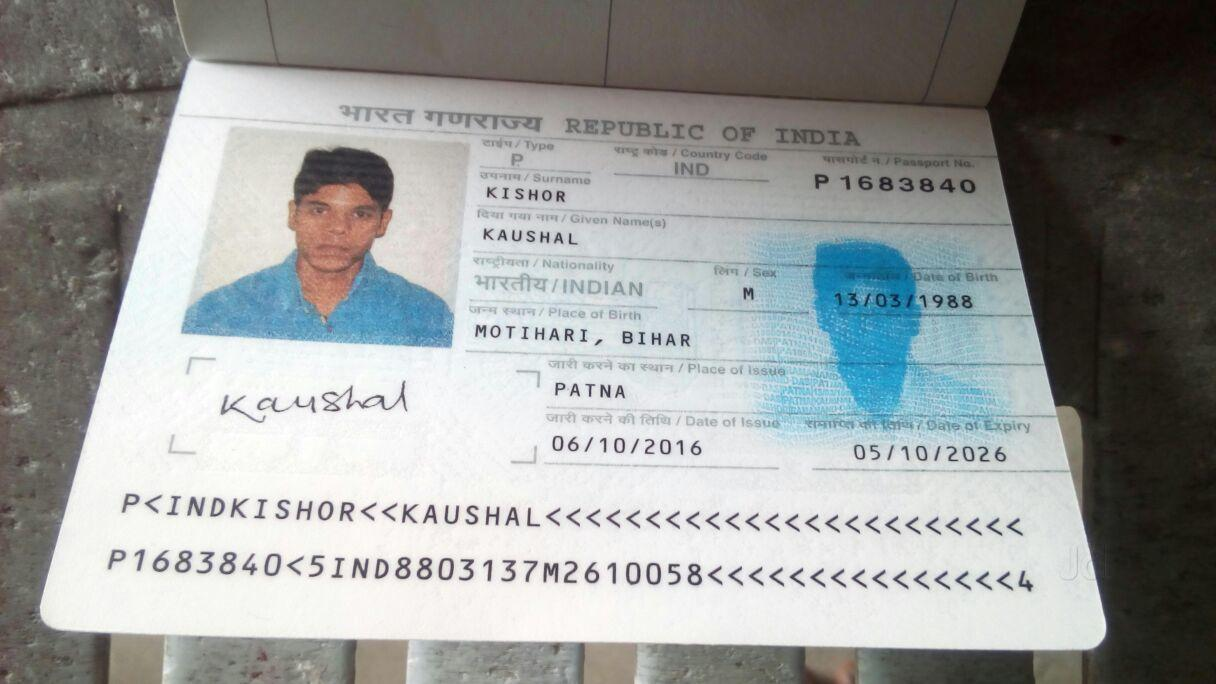DOB: (821, 280, 992, 321)
Surname: (480, 178, 582, 209)
country_code: (660, 157, 720, 181)
date_of_expiry: (836, 433, 1025, 476)
date_of_issue: (541, 424, 716, 466)
details: (99, 486, 1031, 601)
name: (475, 221, 589, 253)
nationality: (469, 272, 661, 307)
passport_no: (803, 167, 990, 211)
photo: (177, 123, 465, 346)
place_of_birth: (467, 312, 707, 356)
place_of_issue: (547, 371, 648, 413)
sex: (733, 277, 766, 311)
sign: (207, 366, 421, 441)
type: (499, 146, 533, 173)
